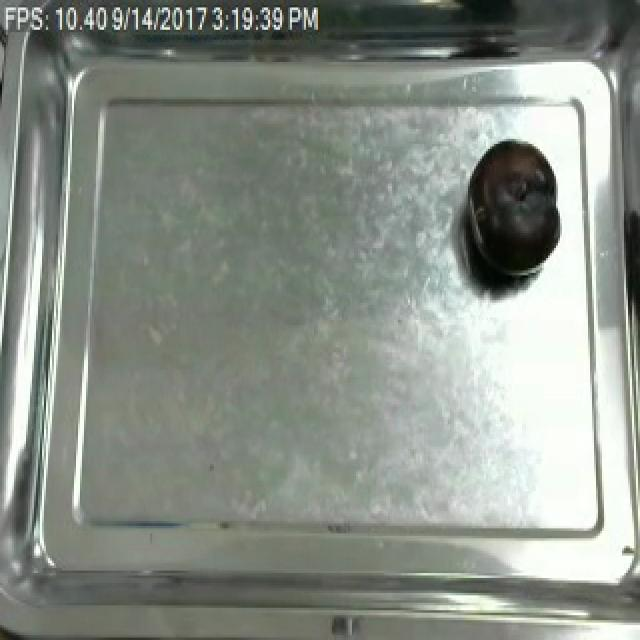Fruit: (460, 134, 566, 288)
